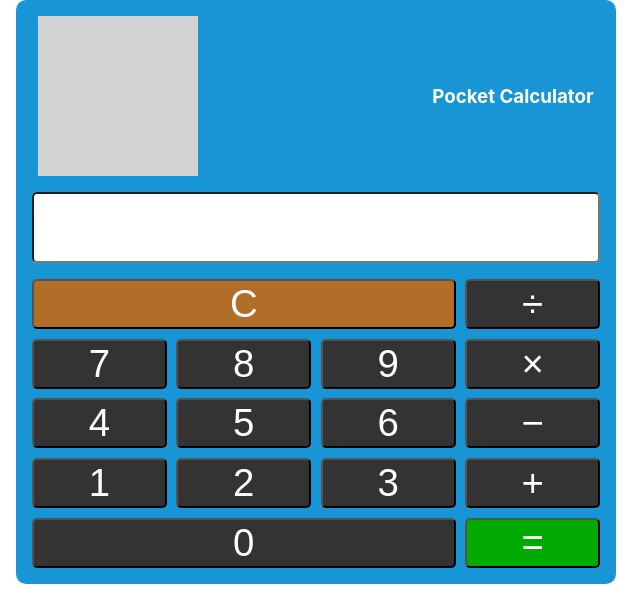
Test case: Calculator component › button interactions › should render button key value entry onto the screen
Click the button with test id "Eight" at (244, 364), box [176, 339, 311, 389]
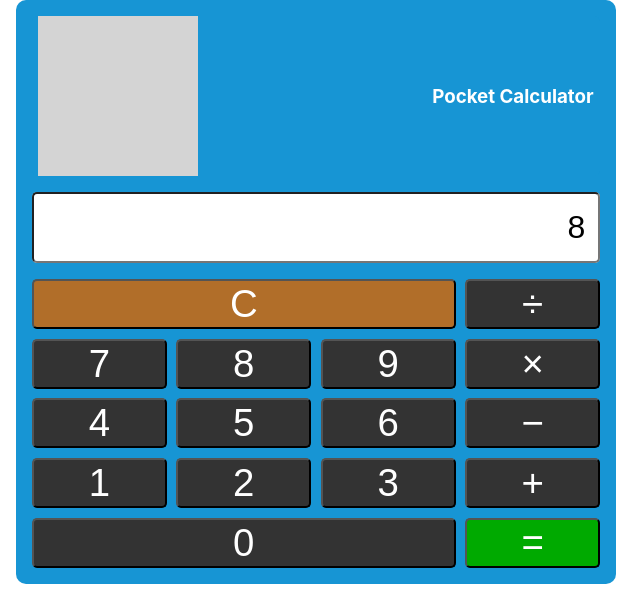
expect the field with test id "component-screen-input" holds "8": met, box [32, 192, 600, 263]
